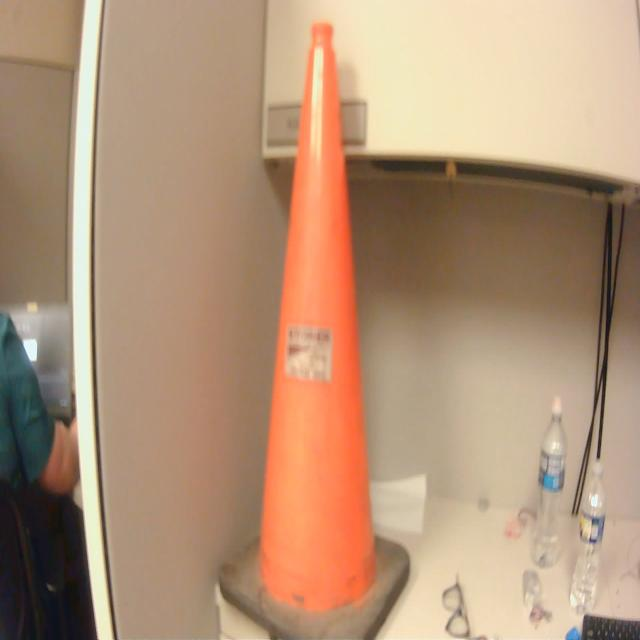traffic cone: (214, 12, 414, 640)
